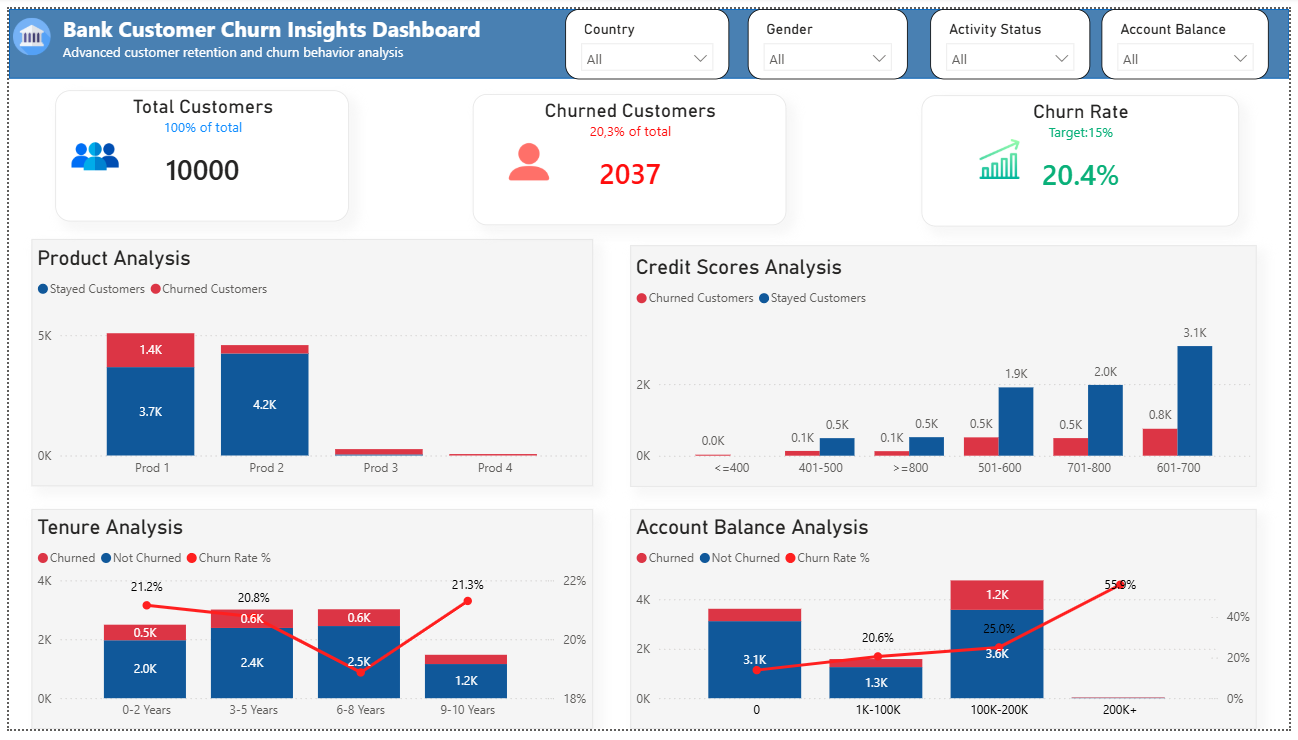

Layout of this report page (visuals, bound fields, positions):
{"tool":"powerbi","page":{"name":"Dashboard-2","canvas":[1280,720],"ordinal":1},"visuals":[{"type":"shape","box":[0,0,1280.3,69.7],"z":0},{"type":"textbox","box":[48.9,0,534.4,59.9],"z":1000},{"type":"image","box":[0,8.4,45.8,37.4],"z":2000},{"type":"clusteredColumnChart","title":"Credit  Scores Analysis","fields":{"Category":["Credit Score Groups.Credit  Scores"],"Y":["Customer Data.Churned Customers","Customer Data.Stayed Customers"]},"box":[621.2,236.2,626.2,241.2],"z":3000},{"type":"columnChart","title":" Product Analysis","fields":{"Category":["Customer Data.Products"],"Y":["Customer Data.Stayed Customers","Customer Data.Churned Customers"]},"box":[22.5,230,561.2,247.5],"z":4000},{"type":"lineStackedColumnComboChart","title":"Tenure Analysis","fields":{"Category":["Customer Data.Tenure Groups"],"Y":["CountNonNull(Customer Data.Customer ID)"],"Series":["Customer Data.Customer Status"],"Y2":["Customer Data.Churn Rate %"]},"box":[22.5,500,561.2,220],"z":5000},{"type":"lineStackedColumnComboChart","title":"Account Balance Analysis","fields":{"Category":["Customer Data.Balance Groups"],"Y":["CountNonNull(Customer Data.Customer ID)"],"Y2":["Customer Data.Churn Rate %"],"Series":["Customer Data.Churn Status"]},"box":[621.2,500,626.2,220],"z":6000},{"type":"slicer","fields":{"Values":["Customer Data.Country"]},"box":[556.2,0,163.8,70],"z":7000},{"type":"slicer","fields":{"Values":["Customer Data.Activity Status"]},"box":[921.2,0,160,70],"z":9000},{"type":"slicer","fields":{"Values":["Customer Data.Account Balance"]},"box":[1092.5,0,167.5,70],"z":10000},{"type":"cardVisual","title":"Total Customers","fields":{"Data":["Customer Data.Total Customers Display"]},"box":[46.2,81.2,293.8,131.2],"z":10001},{"type":"image","box":[62.5,123.8,47.5,47.5],"z":10002},{"type":"cardVisual","title":"Churned Customers","fields":{"Data":["Customer Data.Churned Customers Display"]},"box":[463.8,85,313.8,131.2],"z":10003},{"type":"image","box":[498.8,130,42.5,45],"z":10004},{"type":"cardVisual","title":"Churn Rate","fields":{"Data":["Customer Data.Churn Rate"]},"box":[912.5,86.2,317.5,131.2],"z":10005},{"type":"image","box":[962.5,130,56.2,40],"z":10006},{"type":"slicer","fields":{"Values":["Customer Data.Gender"]},"box":[738.8,0,160,70],"z":10007}]}

Visuals, with their boxes in screenshot pixels (x1, y1, x2, y2), scaled from the page's 1280x720 canvas onto the 1298x740 screenshot:
shape: 0:0:1297:72
textbox: 50:0:592:62
image: 0:9:46:47
"Credit  Scores Analysis" clusteredColumnChart: 630:243:1265:491
" Product Analysis" columnChart: 23:236:592:491
"Tenure Analysis" lineStackedColumnComboChart: 23:514:592:739
"Account Balance Analysis" lineStackedColumnComboChart: 630:514:1265:739
slicer - Customer Data.Country: 564:0:730:72
slicer - Customer Data.Activity Status: 934:0:1096:72
slicer - Customer Data.Account Balance: 1108:0:1278:72
"Total Customers" cardVisual: 47:83:345:218
image: 63:127:112:176
"Churned Customers" cardVisual: 470:87:789:222
image: 506:134:549:180
"Churn Rate" cardVisual: 925:89:1247:223
image: 976:134:1033:175
slicer - Customer Data.Gender: 749:0:911:72
